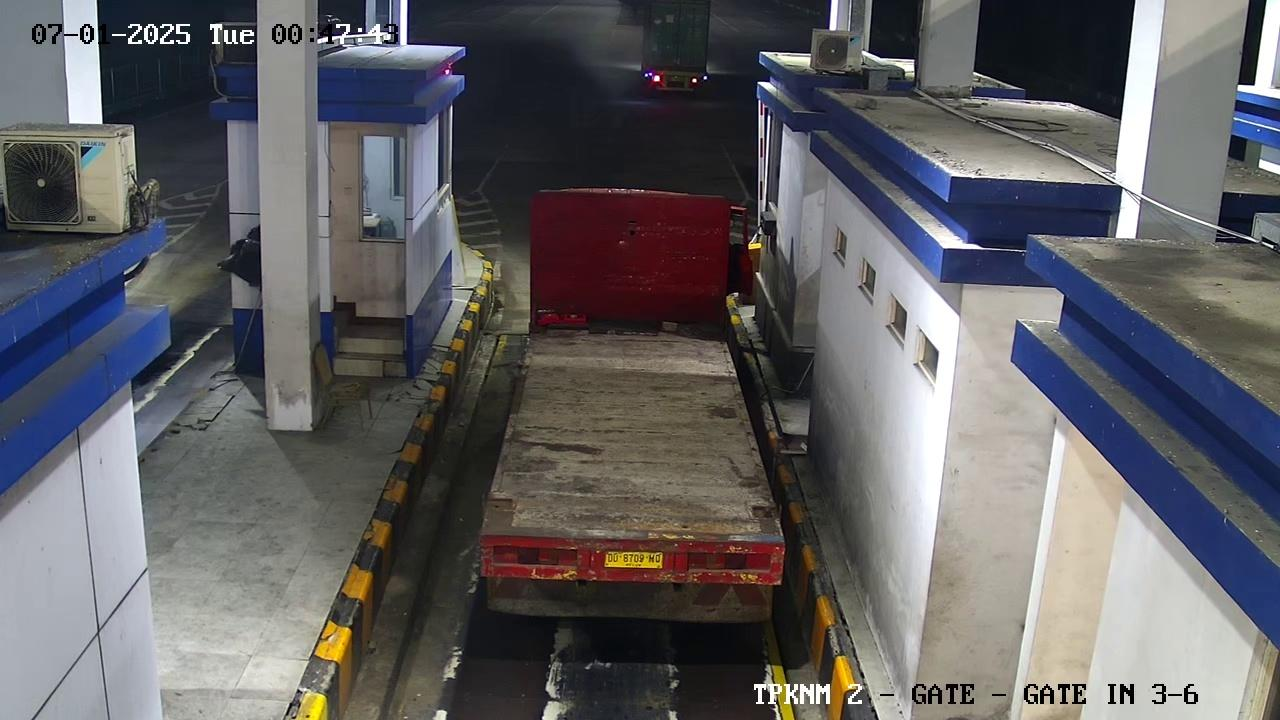plate_number: (583, 542, 690, 578)
